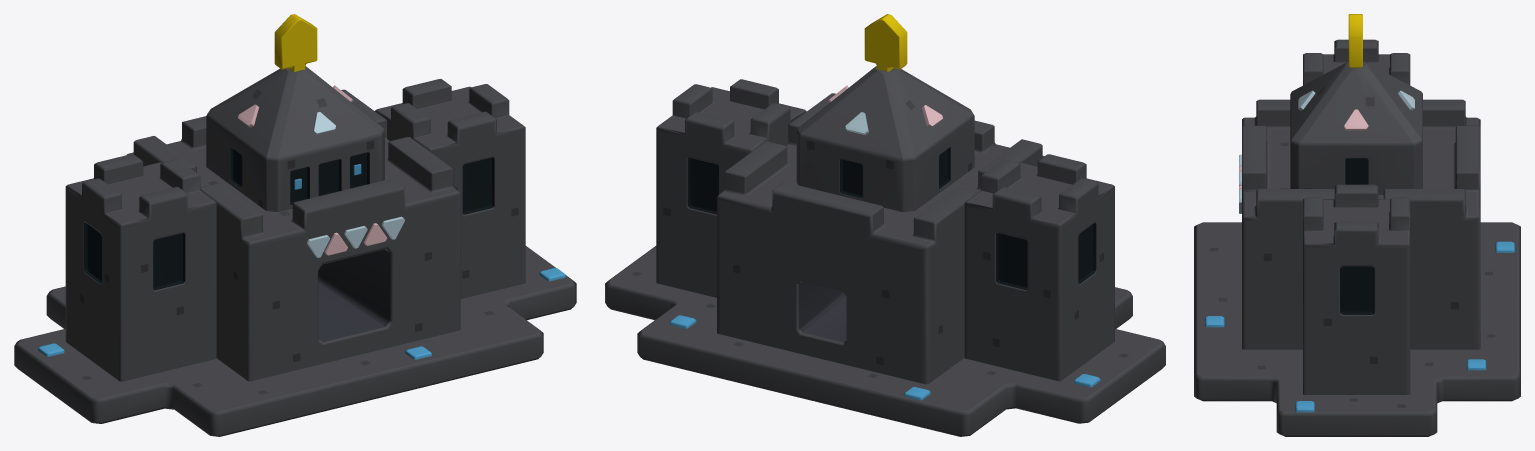
3 views of the same model, side by side, from view 1: azimuth 30°, elevation 25°; view 2: azimuth 150°, elevation 25°; view 3: azimuth 270°, elevation 25° (orthographic). The views are drawn at different scales.
Parts seen in each view (by area): view 1: model; view 2: model; view 3: model.
Part boxes in pixels (x1,y1,x2,y2): model: [14, 14, 576, 436]; model: [605, 14, 1165, 436]; model: [1194, 14, 1520, 436].
Size of the model in its own units: 4.07 by 2.57 by 2.46.
